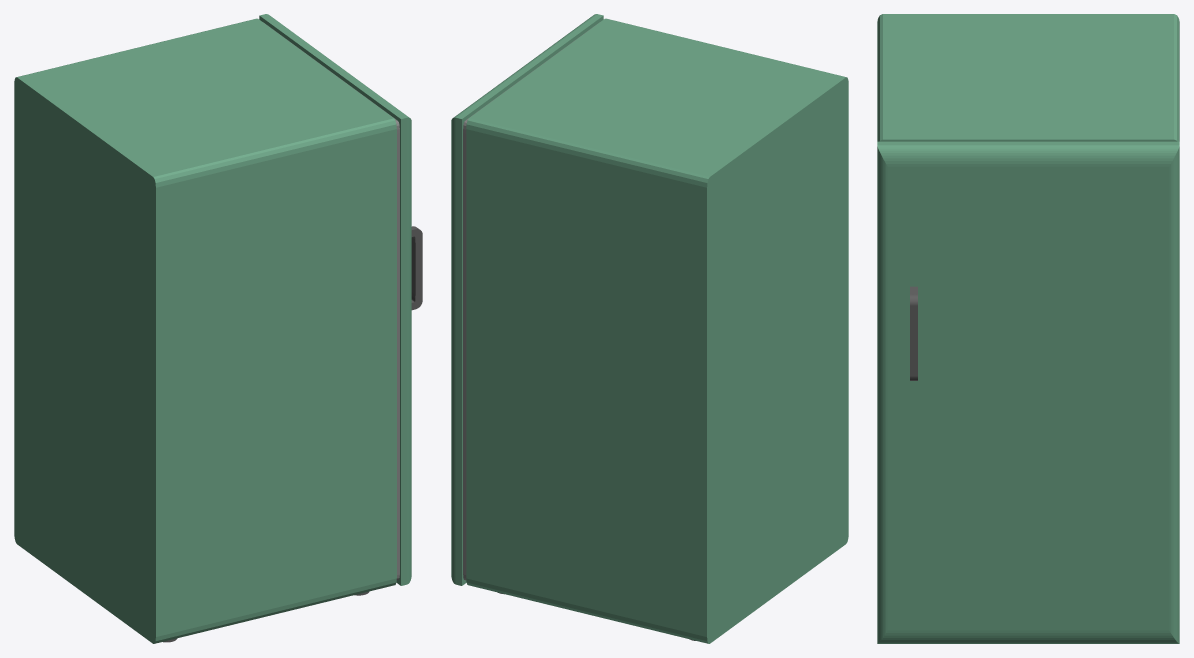
Rendered from kulkas 1 pintu.fbx.
3 renders of one model, left to right at view 1: azimuth 30°, elevation 25°; view 2: azimuth 150°, elevation 25°; view 3: azimuth 270°, elevation 25°, orthographic. The views are drawn at different scales.
Visible parts, largest first — view 1: Cube.003; view 2: Cube.003; view 3: Cube.003.
Boxes of the visible parts, box(x1,y1,x2,y2) form: Cube.003: box(14, 14, 422, 643); Cube.003: box(451, 14, 848, 643); Cube.003: box(877, 14, 1179, 643).
Bounding box in the file's own units: 91.05 × 146 × 79.2.
